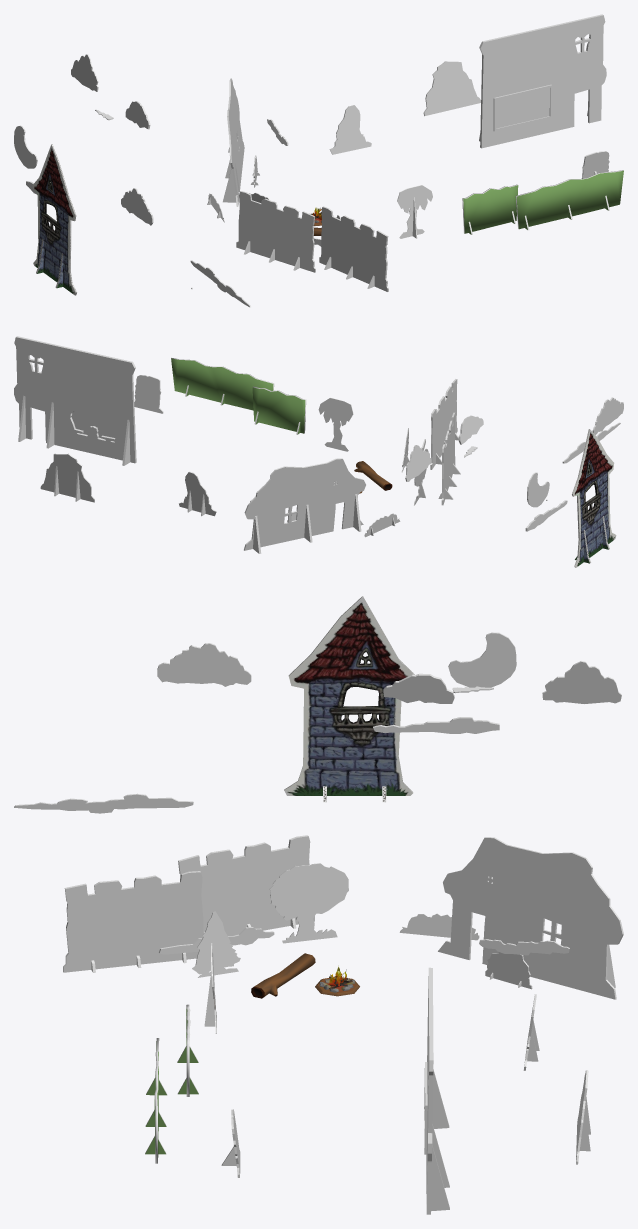
The model's file is Theatre_Decores.fbx.
3 renders of one model, top to bottom at view 1: azimuth 30°, elevation 25°; view 2: azimuth 150°, elevation 25°; view 3: azimuth 270°, elevation 25°, orthographic. The views are drawn at different scales.
Visible parts, largest first — view 1: cafe, castle wall.001, Tower, Mountain Backdrop 1, castle wall, Mountain Backdrop 2, Boulder2, cottage, Boulder1.001, Tree1.004, Cloud 3, Cloud 1 (+4 smaller); view 2: cafe, cottage, Tower, Mountain Backdrop 1, Mountain Backdrop 2, Boulder2, castle wall, Tree1.004, castle wall.001, Bush2.001, Boulder1.001, Cloud 3 (+6 smaller); view 3: cottage, Tower, castle wall, castle wall.001, Tree2.002, cafe, Cloud 3, Plane, Cloud 1, Cloud 6, Tree3, Cloud 5 (+7 smaller).
Boxes of the visible parts, bbox=[...] form: cafe: bbox=[479, 14, 606, 148]; castle wall.001: bbox=[236, 191, 315, 272]; Tower: bbox=[32, 144, 76, 295]; Mountain Backdrop 1: bbox=[515, 170, 623, 230]; castle wall: bbox=[319, 206, 388, 291]; Mountain Backdrop 2: bbox=[462, 184, 518, 234]; Boulder2: bbox=[423, 61, 480, 116]; cottage: bbox=[223, 78, 244, 206]; Boulder1.001: bbox=[329, 105, 371, 154]; Tree1.004: bbox=[397, 185, 432, 238]; Cloud 3: bbox=[121, 188, 153, 225]; Cloud 1: bbox=[71, 54, 98, 91]; cafe: bbox=[14, 336, 136, 465]; cottage: bbox=[244, 458, 365, 553]; Tower: bbox=[572, 429, 616, 567]; Mountain Backdrop 1: bbox=[171, 358, 274, 410]; Mountain Backdrop 2: bbox=[252, 386, 306, 434]; Boulder2: bbox=[40, 453, 94, 502]; castle wall: bbox=[430, 379, 458, 469]; Tree1.004: bbox=[318, 397, 353, 451]; castle wall.001: bbox=[438, 412, 460, 505]; Bush2.001: bbox=[134, 375, 163, 413]; Boulder1.001: bbox=[179, 471, 216, 516]; Cloud 3: bbox=[592, 397, 623, 434]; cottage: bbox=[438, 837, 623, 999]; Tower: bbox=[284, 596, 414, 802]; castle wall: bbox=[63, 871, 203, 972]; castle wall.001: bbox=[178, 835, 314, 935]; Tree2.002: bbox=[269, 863, 348, 943]; cafe: bbox=[424, 967, 449, 1214]; Cloud 3: bbox=[157, 643, 251, 686]; Plane: bbox=[448, 632, 516, 687]; Cloud 1: bbox=[542, 661, 621, 703]; Cloud 6: bbox=[14, 793, 193, 813]; Tree3: bbox=[192, 911, 240, 977]; Cloud 5: bbox=[383, 673, 454, 703].
Size of the model in its own units: 3460 by 812 by 2071.
23 materials, 1 textured.
